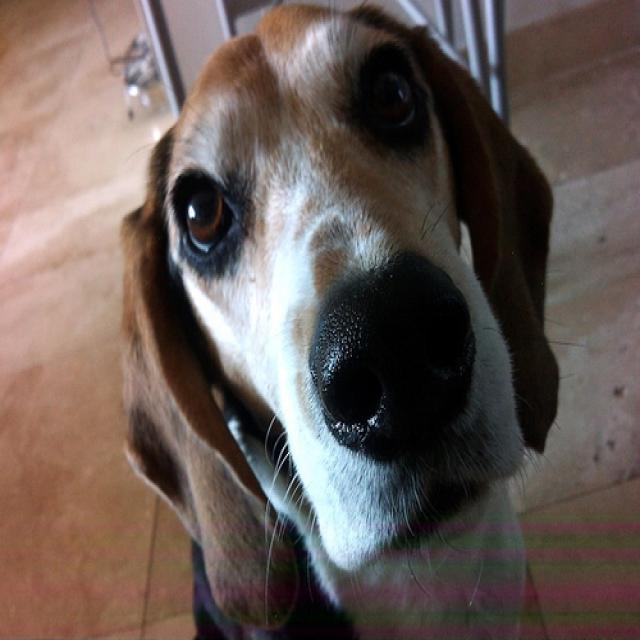dog-beagle: (110, 2, 575, 637)
